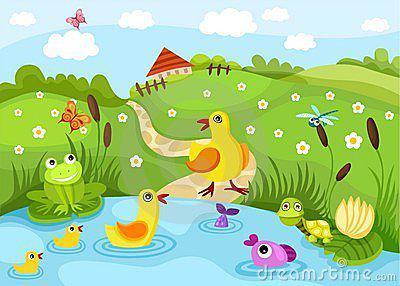bird: (178, 106, 257, 202), (102, 185, 168, 254), (51, 221, 84, 250), (9, 248, 44, 275)
